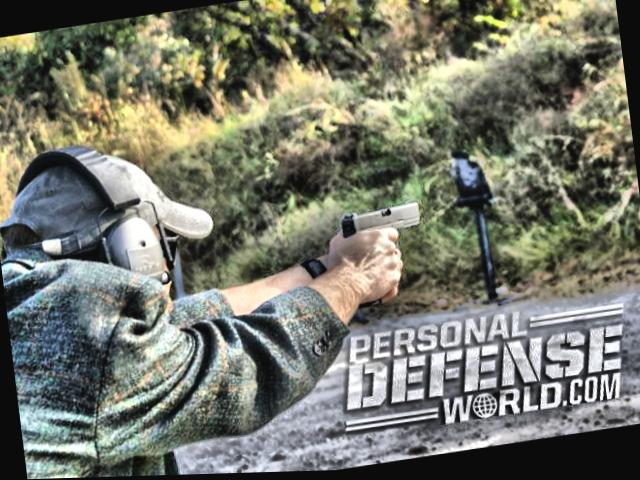pistol: (340, 199, 429, 312)
